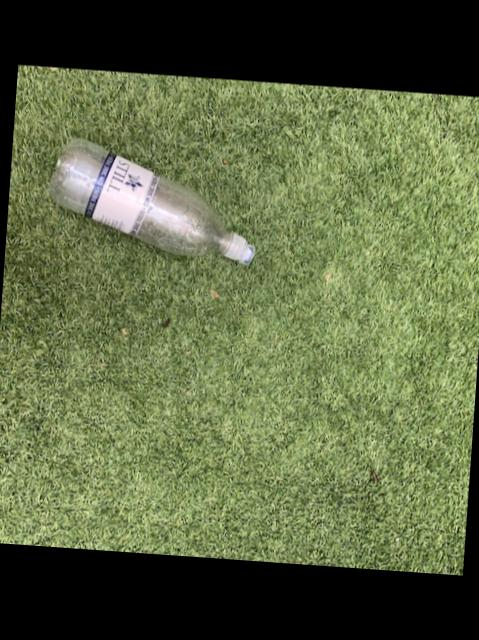plastic: (49, 137, 253, 262)
